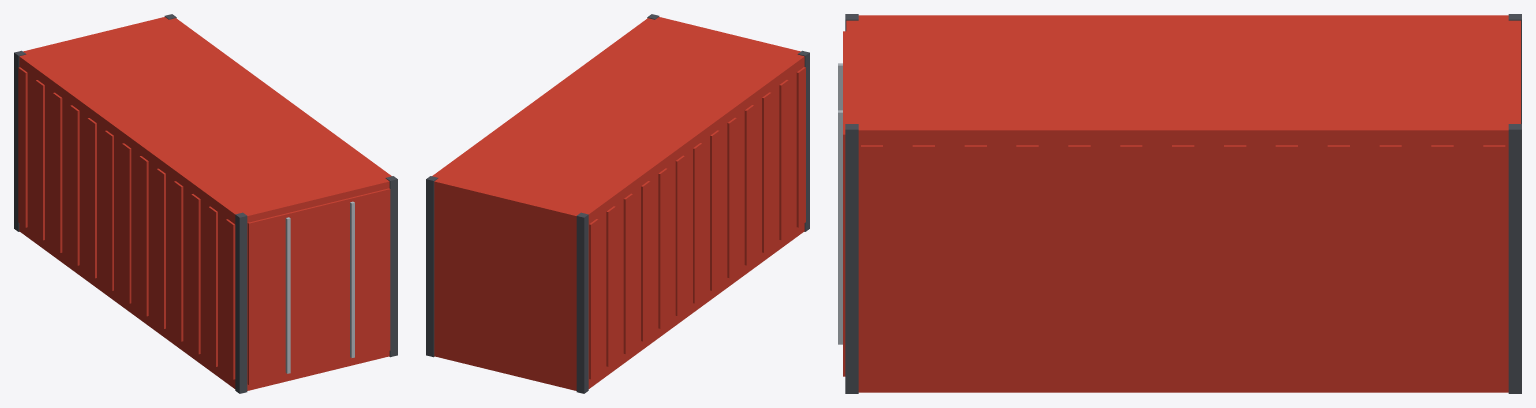
The model's file is container.glb.
The picture shows the model from 3 angles, left to right: view 1: azimuth 30°, elevation 25°; view 2: azimuth 150°, elevation 25°; view 3: azimuth 270°, elevation 25°; orthographic projection. The views are drawn at different scales.
Visible parts, largest first — view 1: container; view 2: container; view 3: container.
Boxes of the visible parts, x1=… form: container: x1=14, y1=14, x2=397, y2=393; container: x1=426, y1=14, x2=809, y2=393; container: x1=838, y1=14, x2=1521, y2=393.
Bounding box in the file's own units: 2.5 × 2.62 × 6.14.
